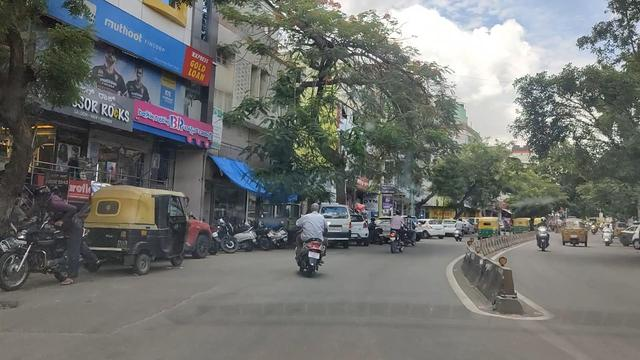LMV: (10, 189, 88, 295), (99, 187, 186, 273), (288, 200, 328, 284)
RoadDamages: (23, 278, 221, 341)
